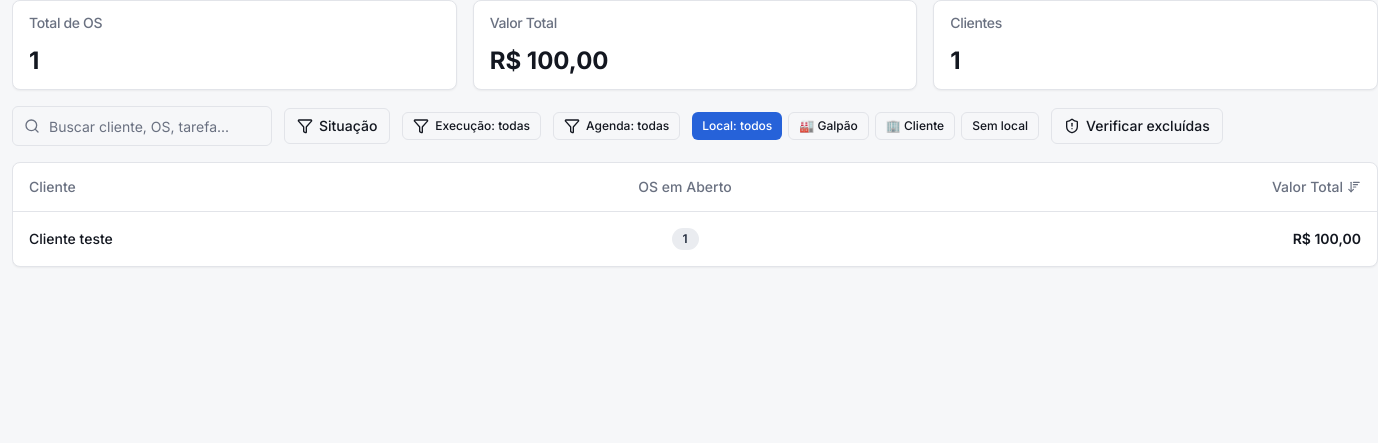
Test: Controle OS — atualização dos vínculos e do cache visual › um espelho confirmado sem agendamento não assume a data da OS nem consulta Auvo novamente
Click the text "Cliente teste" at (71, 238), box 29,228 -> 113,248
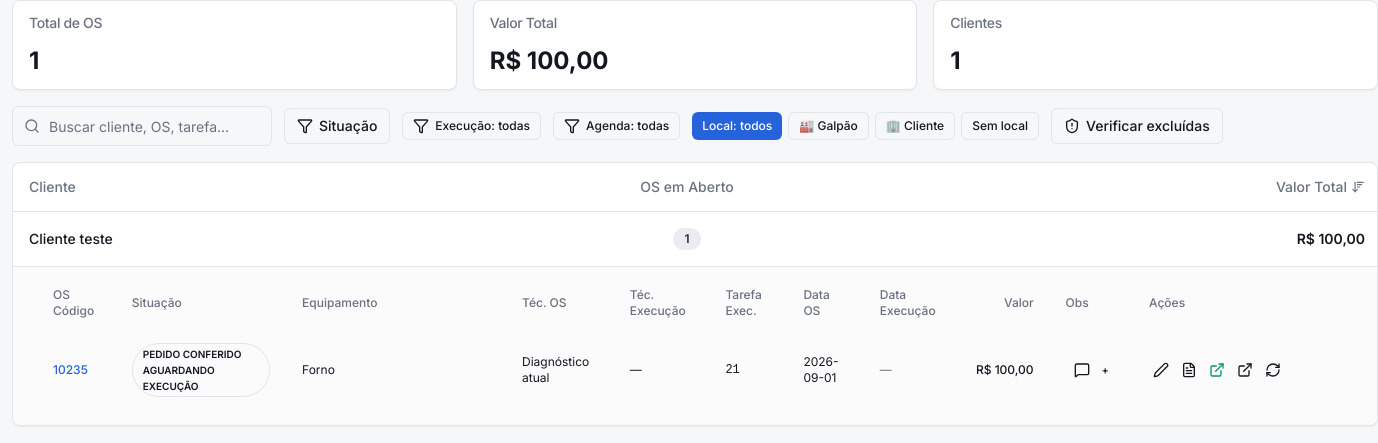
Expected: the 2nd cell "—" is shown, 864,326 -> 960,412
